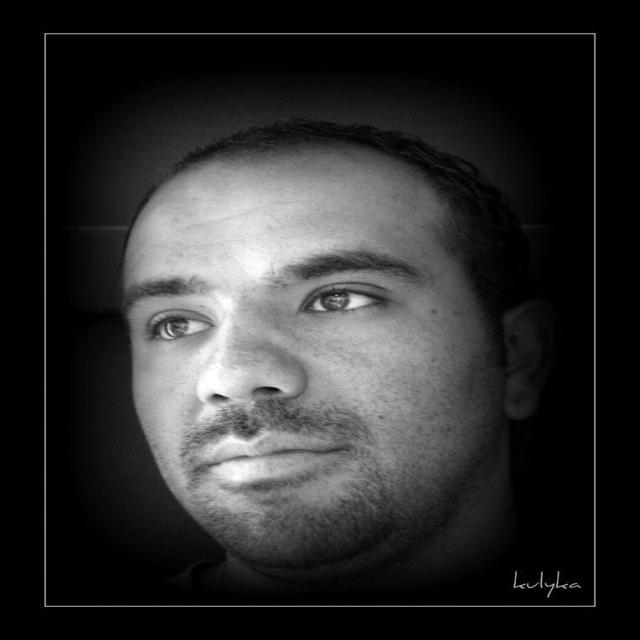no-glass: (148, 282, 394, 344)
